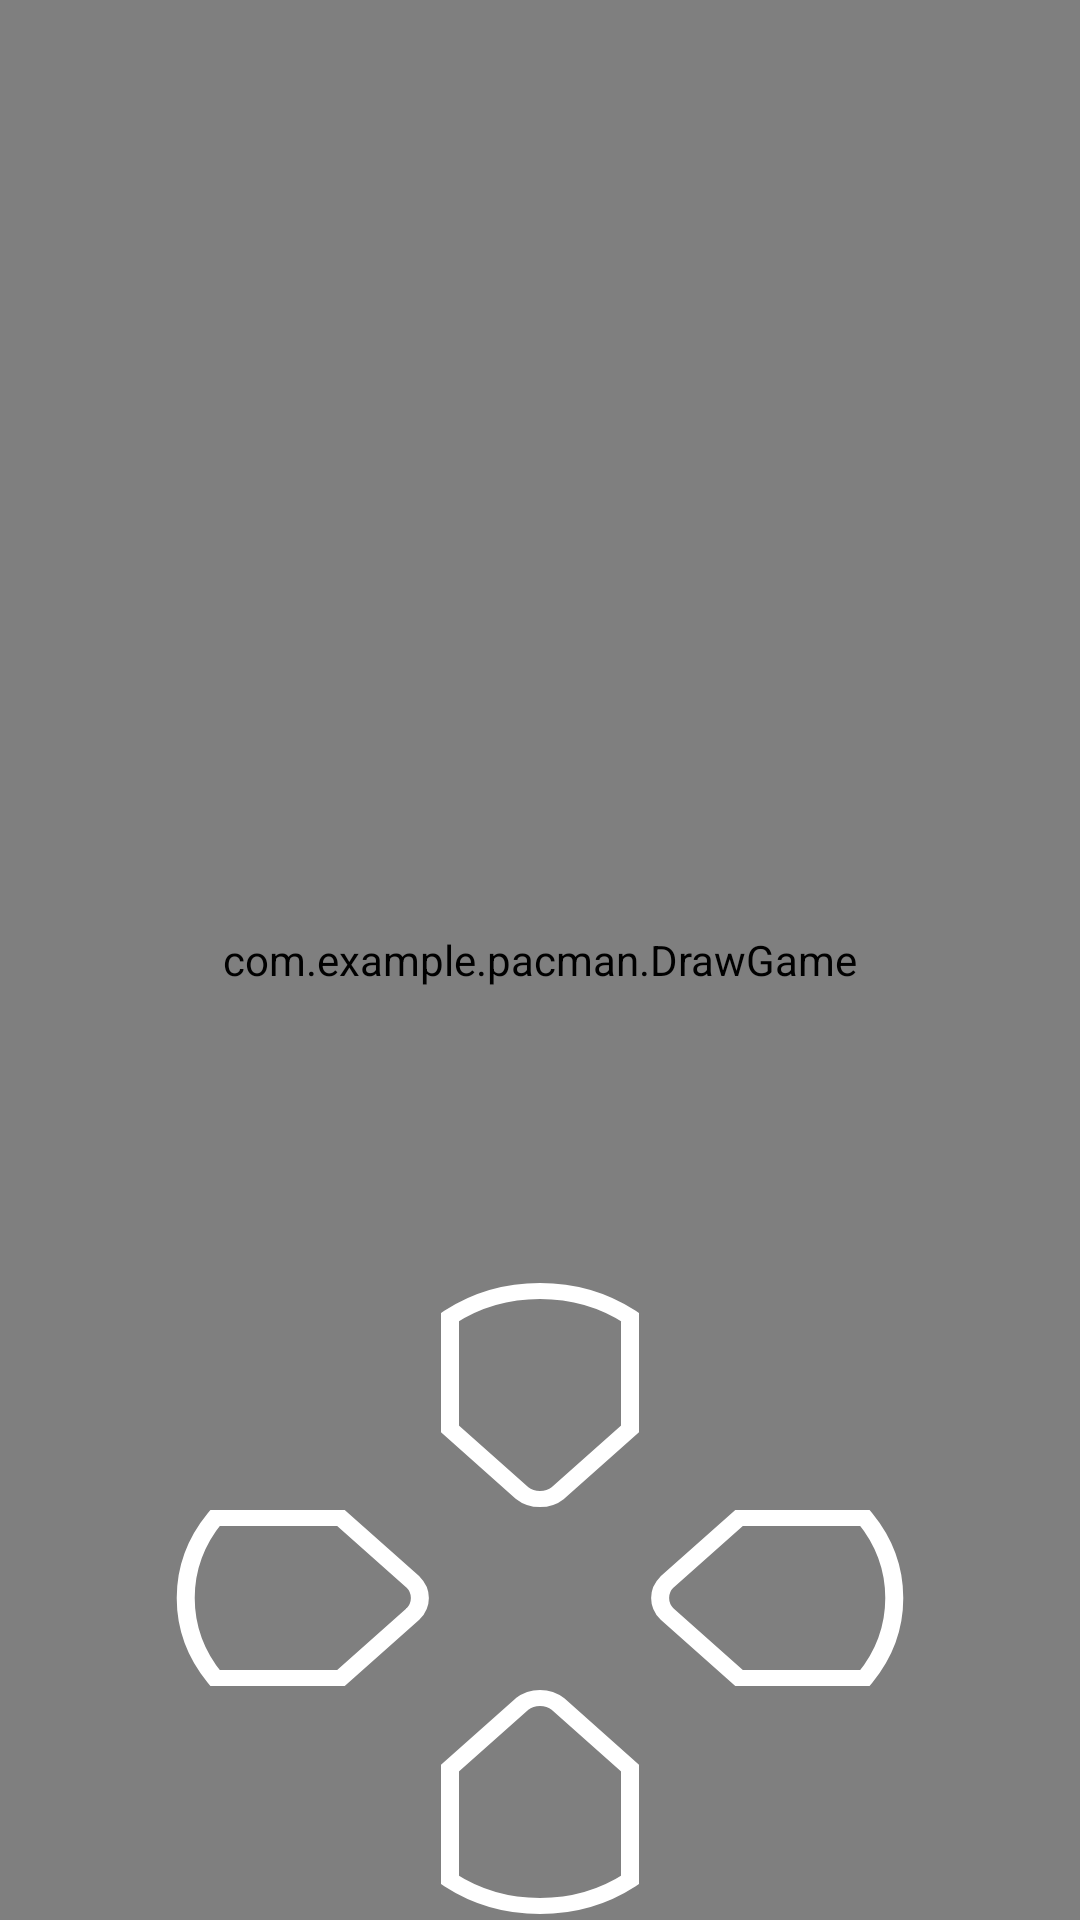

Where icons sit on this 1080w x 1920h app screen, as box(x1, y1, x2, y2):
dpaddown: box(441, 1690, 639, 1914)
dpadleft: box(176, 1510, 429, 1686)
dpadright: box(651, 1510, 904, 1686)
dpadup: box(441, 1283, 639, 1507)
